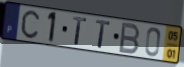0: (144, 26, 162, 58)
1: (46, 11, 58, 45)
B: (117, 21, 142, 56)
C: (21, 10, 41, 40)
T: (94, 19, 112, 50), (71, 15, 88, 47)
